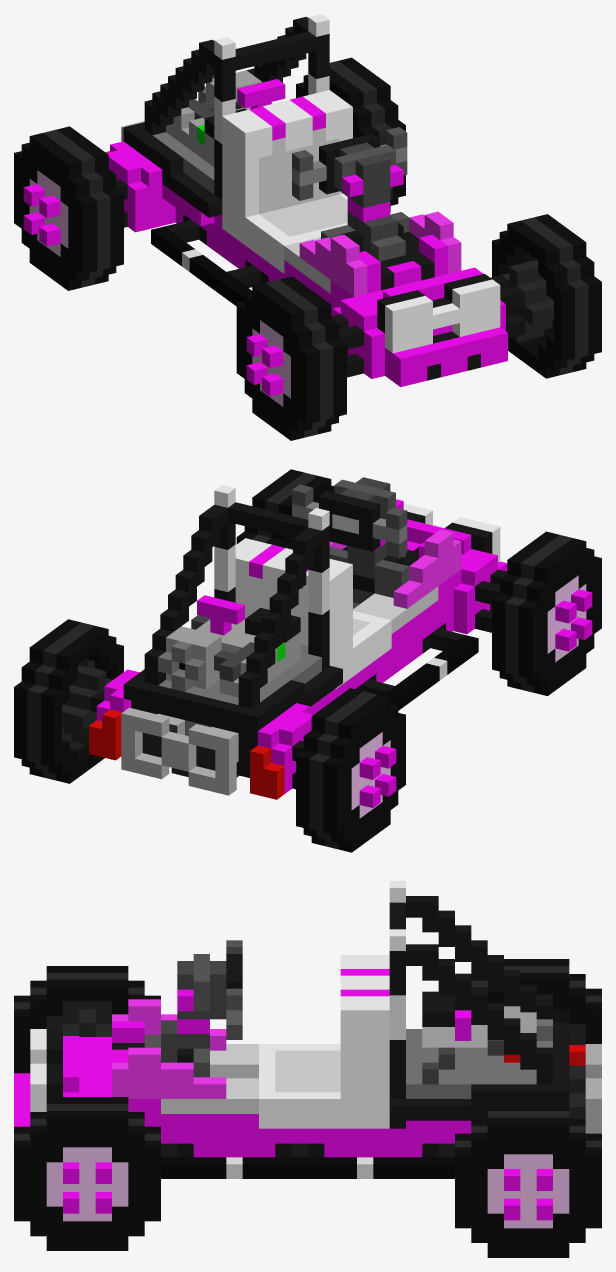
File: Pink_Kart.obj
The picture shows the model from 3 angles, top to bottom: view 1: azimuth 30°, elevation 25°; view 2: azimuth 150°, elevation 25°; view 3: azimuth 270°, elevation 25°; orthographic projection. The views are drawn at different scales.
Bounding box in the file's own units: 2.6 × 1.8 × 3.6.
1 material, 1 textured.
